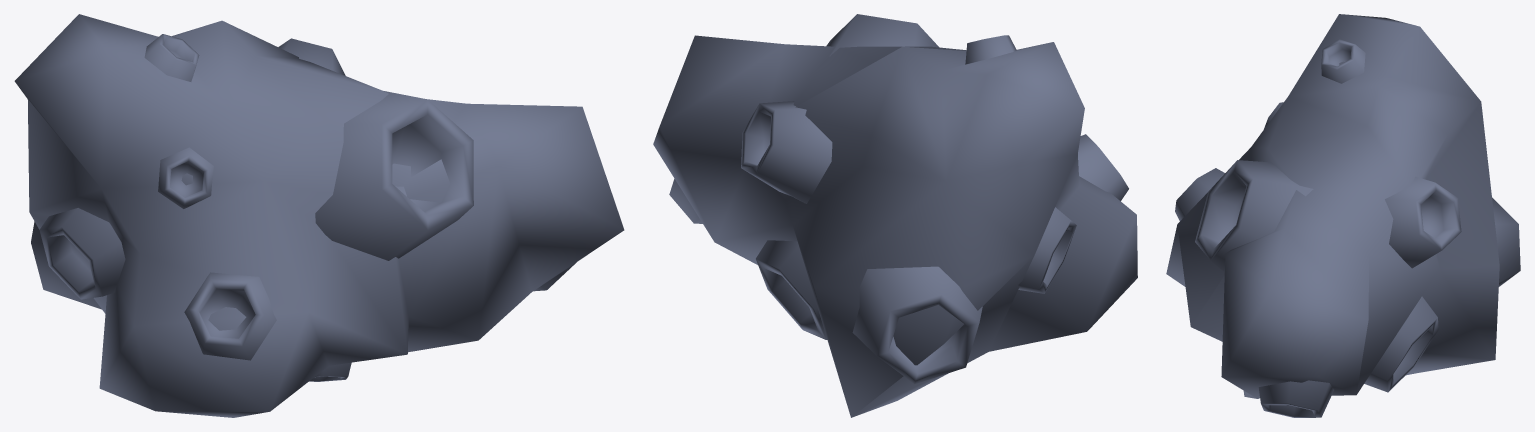
File: rock1.glb
3 views of the same model, side by side, from view 1: azimuth 30°, elevation 25°; view 2: azimuth 150°, elevation 25°; view 3: azimuth 270°, elevation 25° (orthographic). The views are drawn at different scales.
Parts seen in each view (by area): view 1: rock1; view 2: rock1; view 3: rock1.
Boxes of the visible parts, bbox=[...] form: rock1: bbox=[14, 14, 624, 417]; rock1: bbox=[653, 14, 1137, 417]; rock1: bbox=[1166, 14, 1520, 417].
Size of the model in its own units: 21.85 by 15.73 by 16.24.
1 material, 1 textured.
